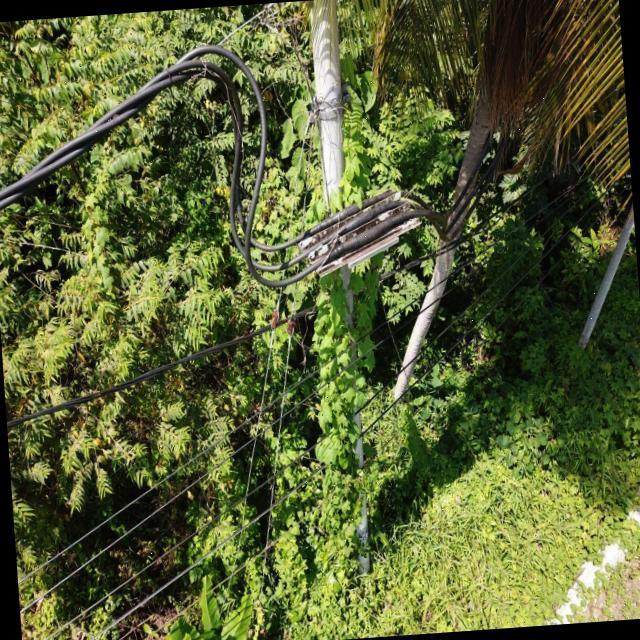critical vegetation: (260, 56, 399, 572)
